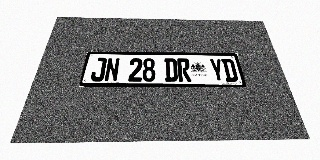2: (128, 58, 143, 82)
8: (142, 58, 155, 82)
D: (221, 59, 239, 82), (164, 58, 178, 82)
J: (90, 58, 107, 81)
N: (104, 58, 120, 82)
R: (177, 58, 192, 82)
Y: (209, 59, 226, 82)
